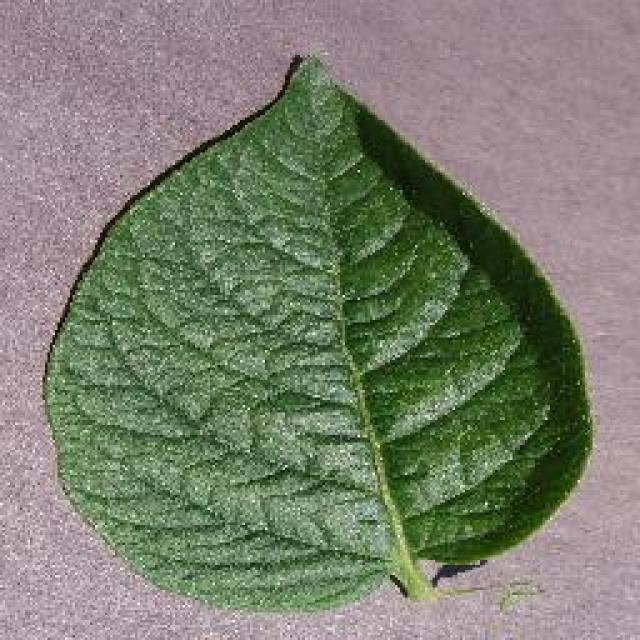healthy: (38, 50, 598, 618)
